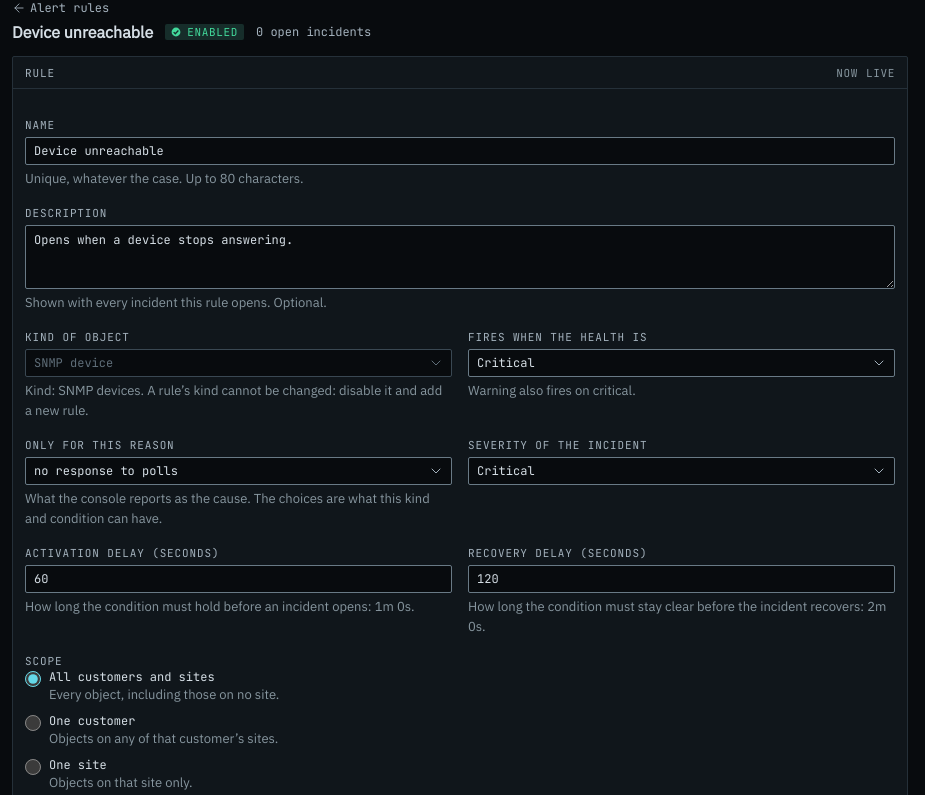
Test: a rule that exists › explains an invalid timing-only edit: Activation delay (seconds) = ""
Clear the field labelled "Activation delay (seconds)" at (238, 579), box top-left (25, 565), bottom-right (452, 593)
(page scrolled)
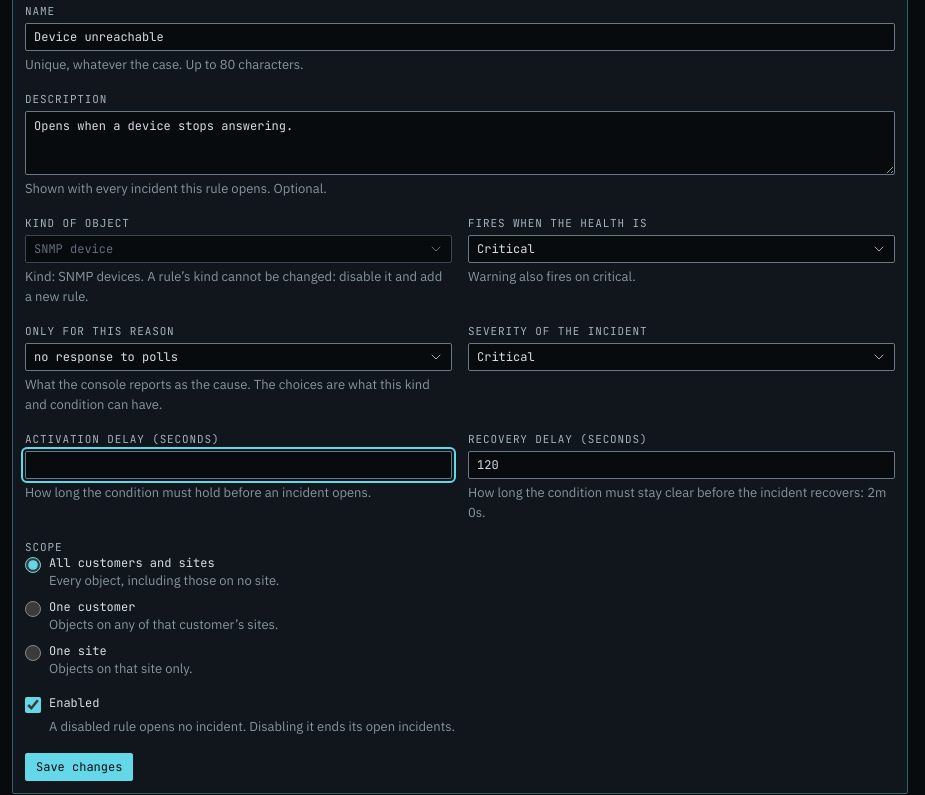
expect the button "Save changes" is enabled: met
Click the button "Save changes" at (79, 767), box top-left (25, 753), bottom-right (133, 781)
(page scrolled)
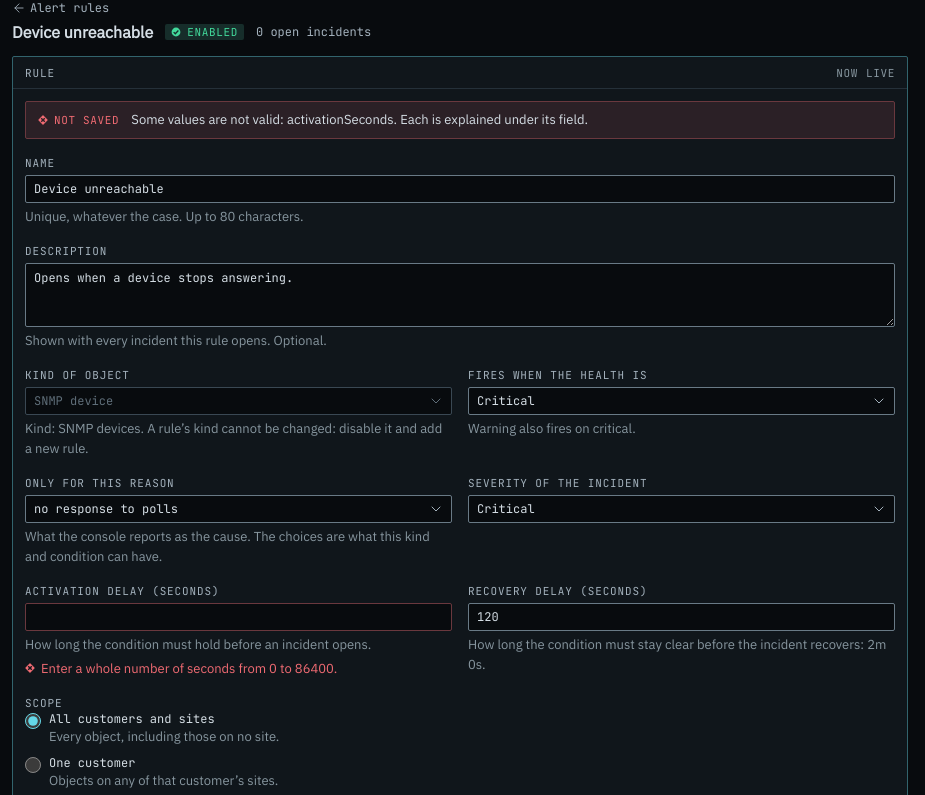
expect the message shows "NOT SAVED": met, box top-left (54, 113), bottom-right (119, 127)
